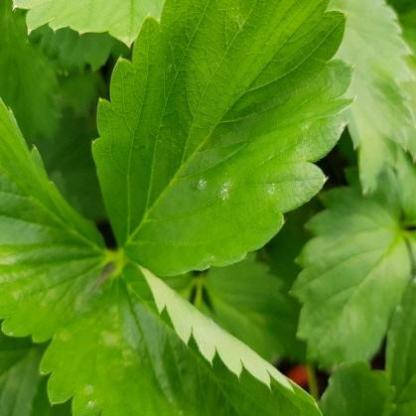Strawberry_Powdery_Mildew_Leaf: (91, 0, 360, 278)
